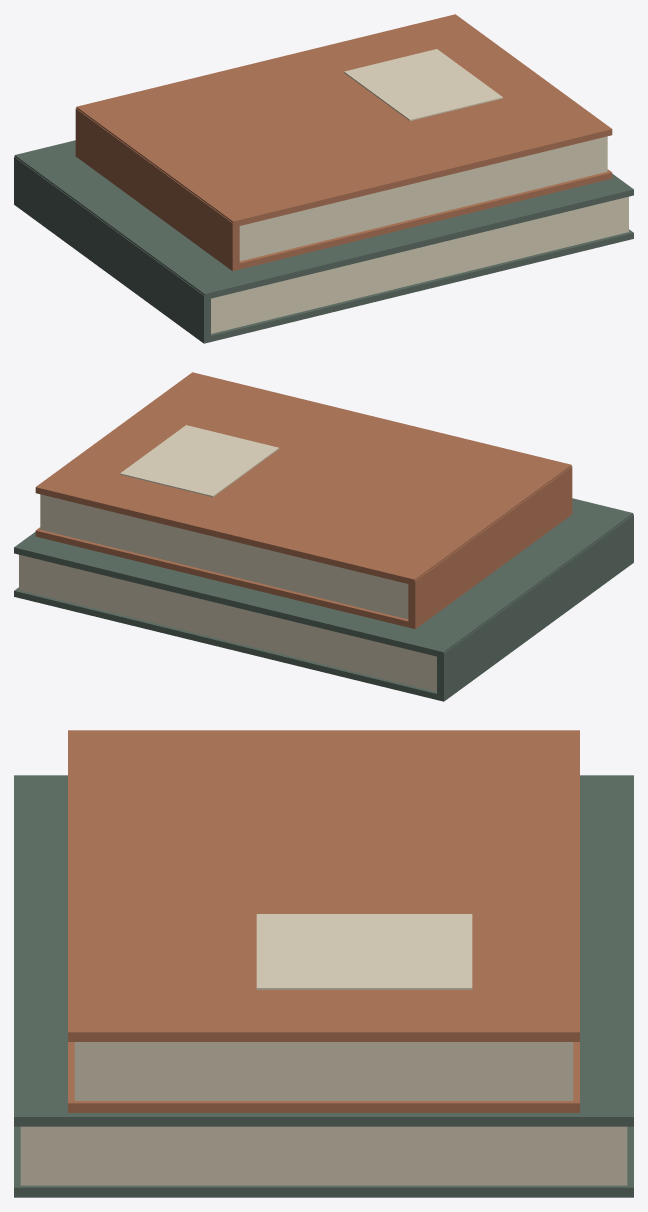
The model's file is studio-books.glb.
3 views of the same model, one above another, from view 1: azimuth 30°, elevation 25°; view 2: azimuth 150°, elevation 25°; view 3: azimuth 270°, elevation 25° (orthographic). The views are drawn at different scales.
Size of the model in its own units: 0.3005 by 0.0674 by 0.23.
